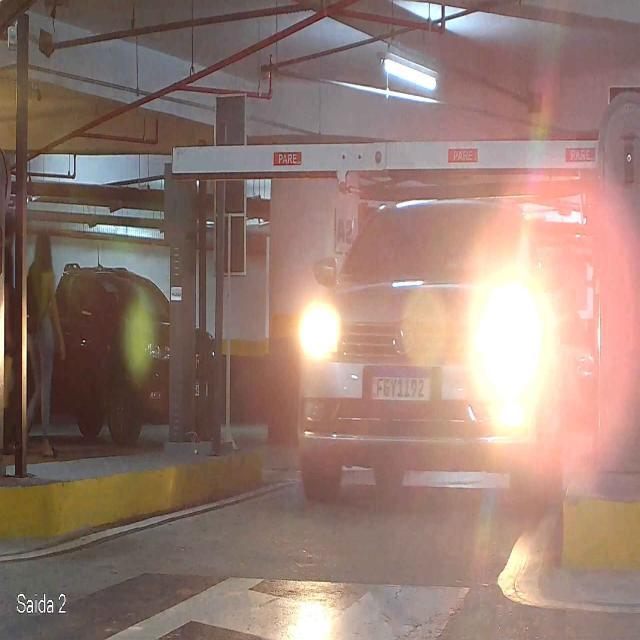mercosul_plate: (368, 364, 436, 401)
